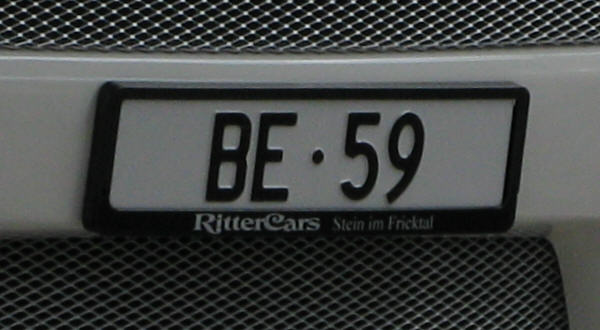license_plate: (108, 92, 522, 218)
